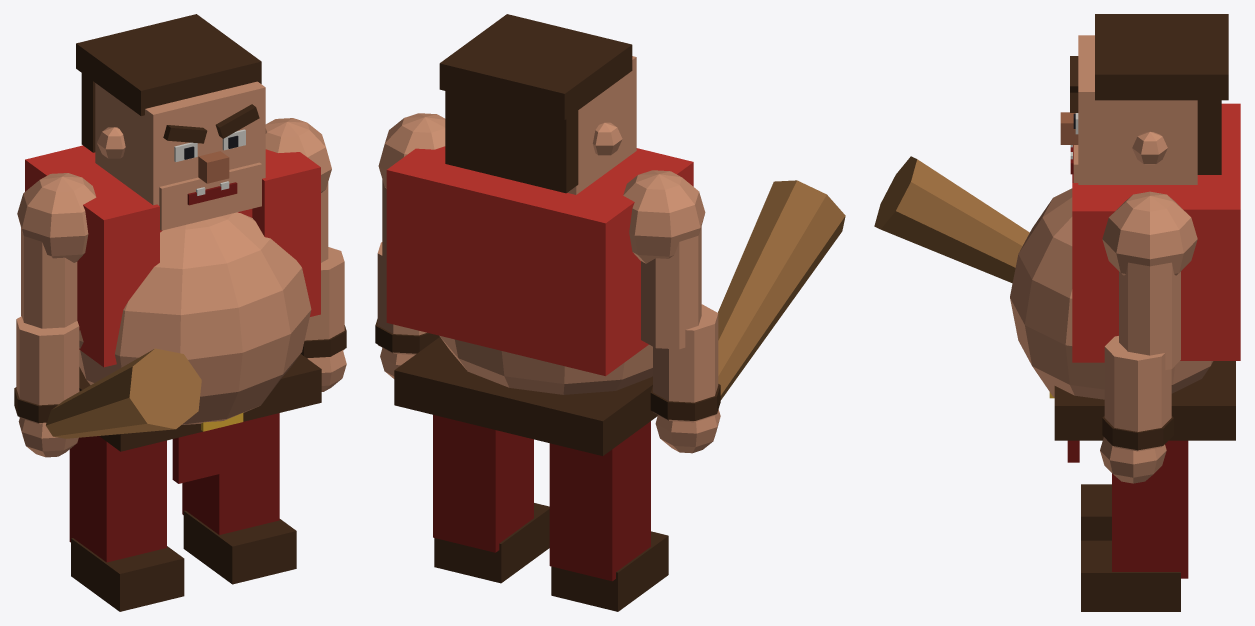
The model's file is brute.fbx.
The picture shows the model from 3 angles, left to right: view 1: azimuth 30°, elevation 25°; view 2: azimuth 150°, elevation 25°; view 3: azimuth 270°, elevation 25°; orthographic projection. The views are drawn at different scales.
Visible parts, largest first — view 1: brute_Body, brute_ArmR, brute_LegR, brute_LegL, brute_ArmL; view 2: brute_Body, brute_ArmR, brute_LegR, brute_LegL, brute_ArmL; view 3: brute_Body, brute_ArmL, brute_LegL, brute_ArmR, brute_LegR.
Part boxes in pixels (box(x1,y1,x2,y2)): brute_Body: box(17, 14, 331, 483); brute_ArmR: box(14, 227, 201, 457); brute_LegR: box(69, 436, 184, 611); brute_LegL: box(182, 413, 296, 584); brute_ArmL: box(301, 182, 346, 391); brute_Body: box(378, 14, 705, 455); brute_ArmR: box(641, 180, 845, 453); brute_LegR: box(549, 421, 668, 611); brute_LegL: box(433, 415, 549, 583); brute_ArmL: box(375, 180, 439, 378); brute_Body: box(1010, 14, 1240, 462); brute_ArmL: box(1100, 262, 1180, 483); brute_LegL: box(1081, 440, 1188, 611); brute_ArmR: box(874, 156, 1029, 283); brute_LegR: box(1081, 484, 1111, 540).
Size of the model in its own units: 1.65 by 2.42 by 1.54.
